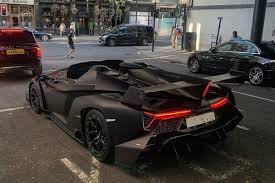Lamborghini: (51, 63, 208, 162)
